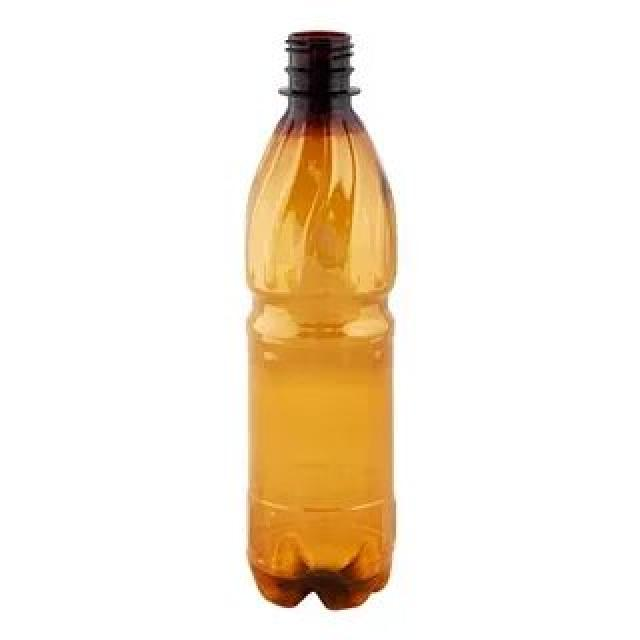brown: (242, 32, 396, 610)
